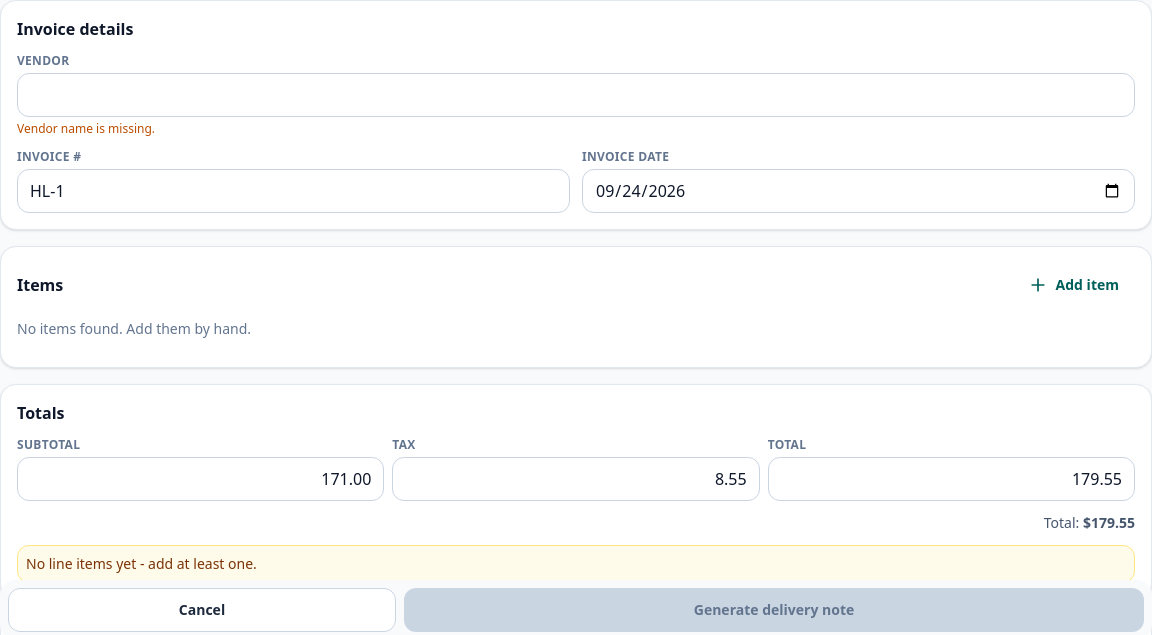
Test: ReviewForm › cannot generate a note without a vendor or items, and says why
The width and height of the screenshot is (1152, 635).
Expected: the button with test id "generate-note" is disabled, [404, 588, 1144, 632]
Type "Acme" into the field labelled "Vendor" at x=576, y=95, box [17, 73, 1135, 117]
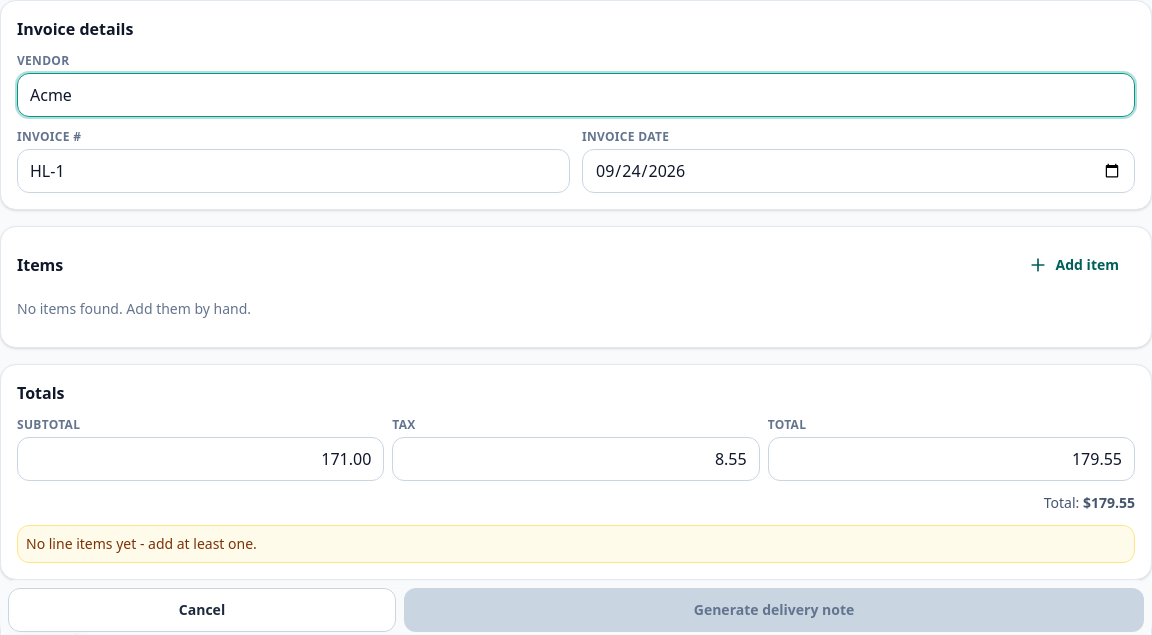
Expected: the button with test id "generate-note" is disabled, [404, 588, 1144, 632]
Click the button with test id "add-item" at x=1073, y=265, box [1012, 243, 1135, 287]
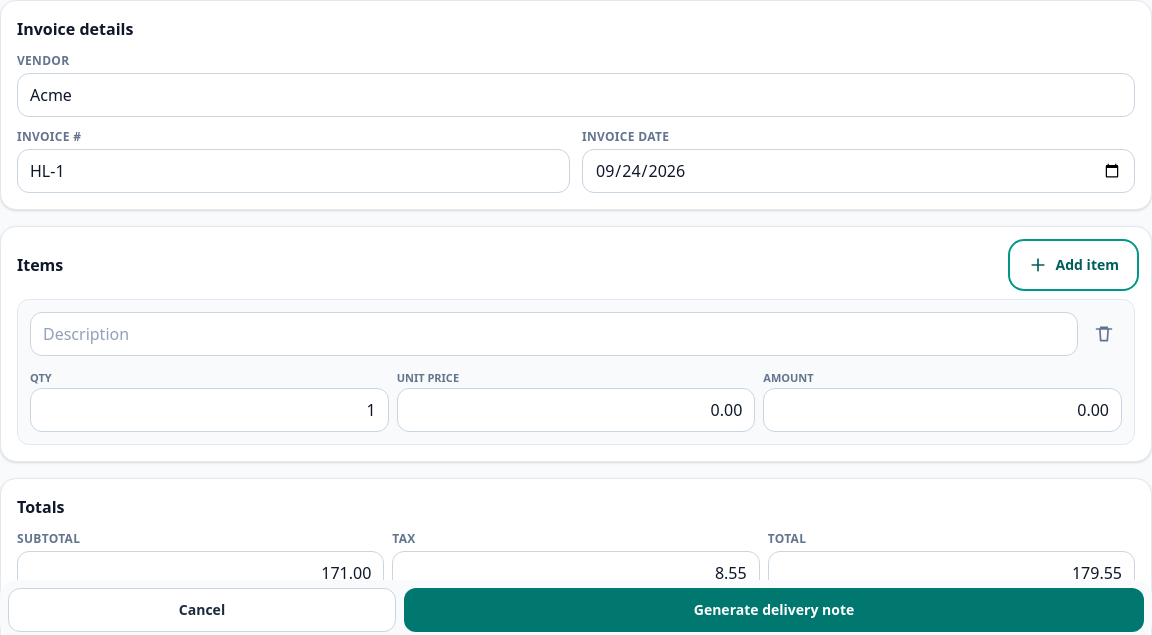
Expected: the button with test id "generate-note" is enabled, [404, 588, 1144, 632]
